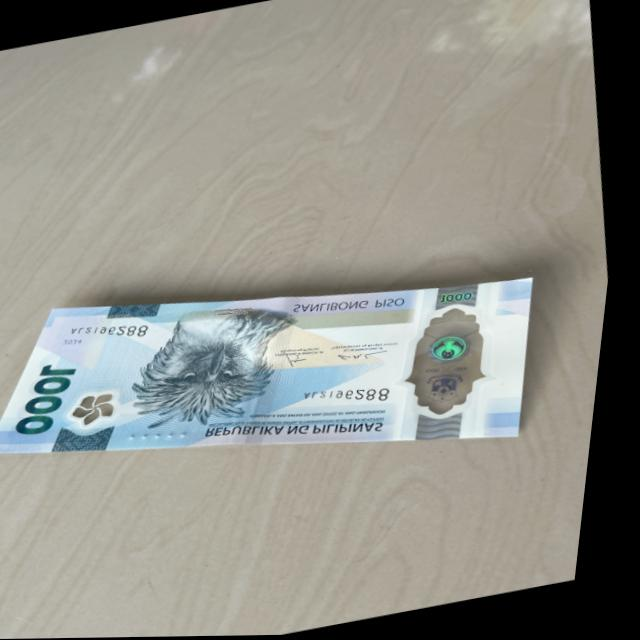clear_window: (393, 298, 510, 430)
eagle: (133, 303, 316, 435)
sampaguita: (76, 386, 137, 430)
